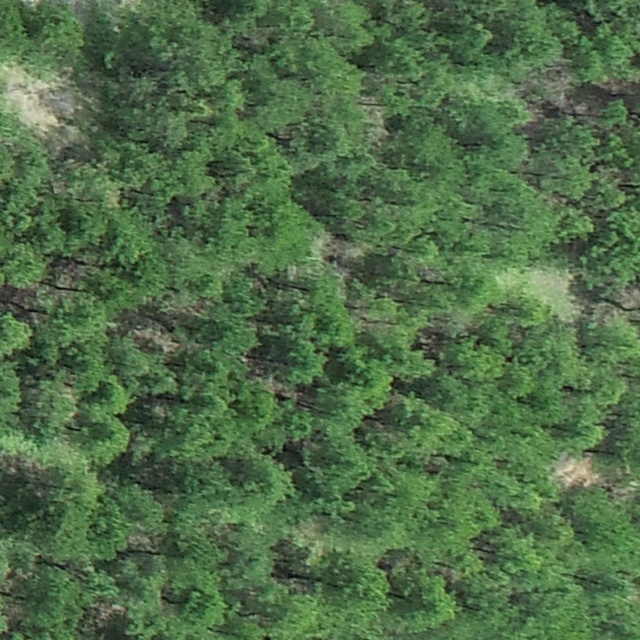unhealthy: (130, 323, 176, 352), (88, 599, 123, 628)
